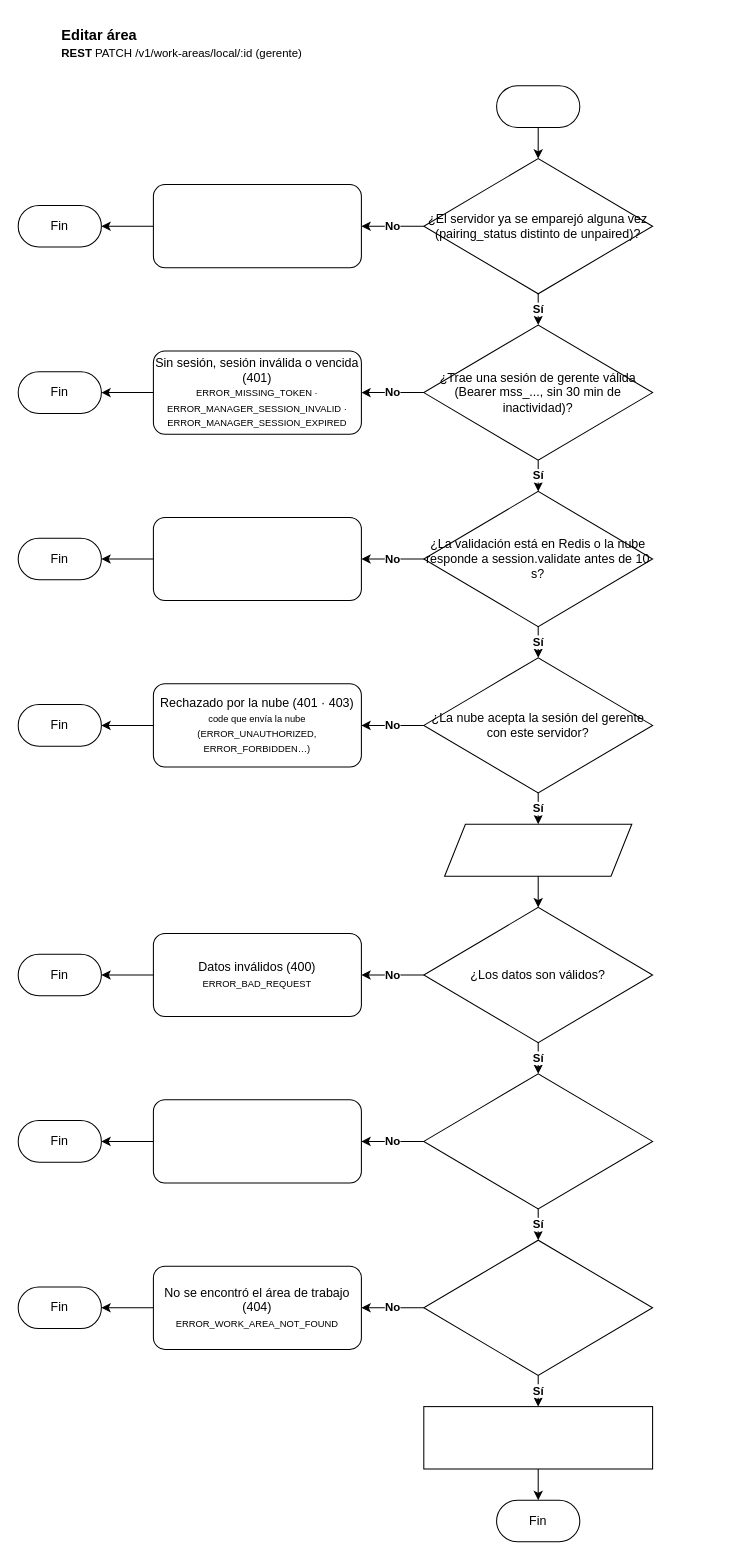
Some shapes in this 744 by 1560 pixel diagram are drawn without their labels. Here are the shapes that lost their labels. From the top down, the centre of each, then its label:
At (x=538, y=106): "Inicio".
At (x=256, y=226): "Servidor sin emparejar (409) ERROR_SERVER_NOT_PAIRED".
At (x=256, y=558): "La nube no responde (503) ERROR_CLOUD_UNAVAILABLE · ERROR_SERVER_UNLINKED".
At (x=538, y=849): "Recibir datos".
At (x=256, y=1141): "Ya existe un área con ese nombre (409) ERROR_WORK_AREA_NAME_ALREADY_IN_USE".
At (x=538, y=1141): "¿El nombre está libre?".
At (x=538, y=1307): "¿Existe el área de trabajo?".
At (x=538, y=1437): "Responder 200 con el mensaje WORK_AREA_UPDATED".
